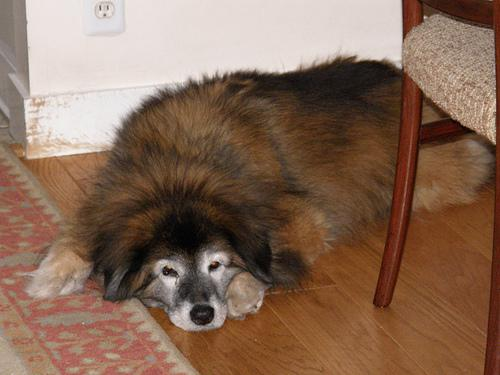dog-leonberger: (103, 197, 270, 331)
